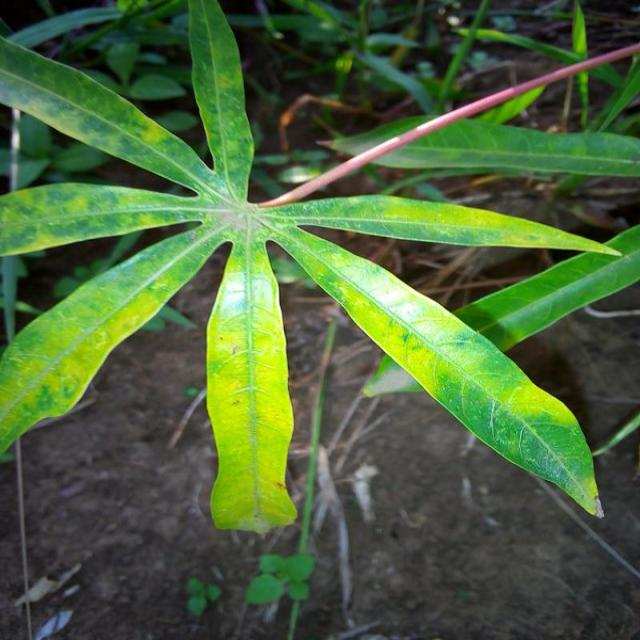cassava leaf: (1, 0, 620, 534), (264, 215, 606, 520), (206, 234, 299, 533)
